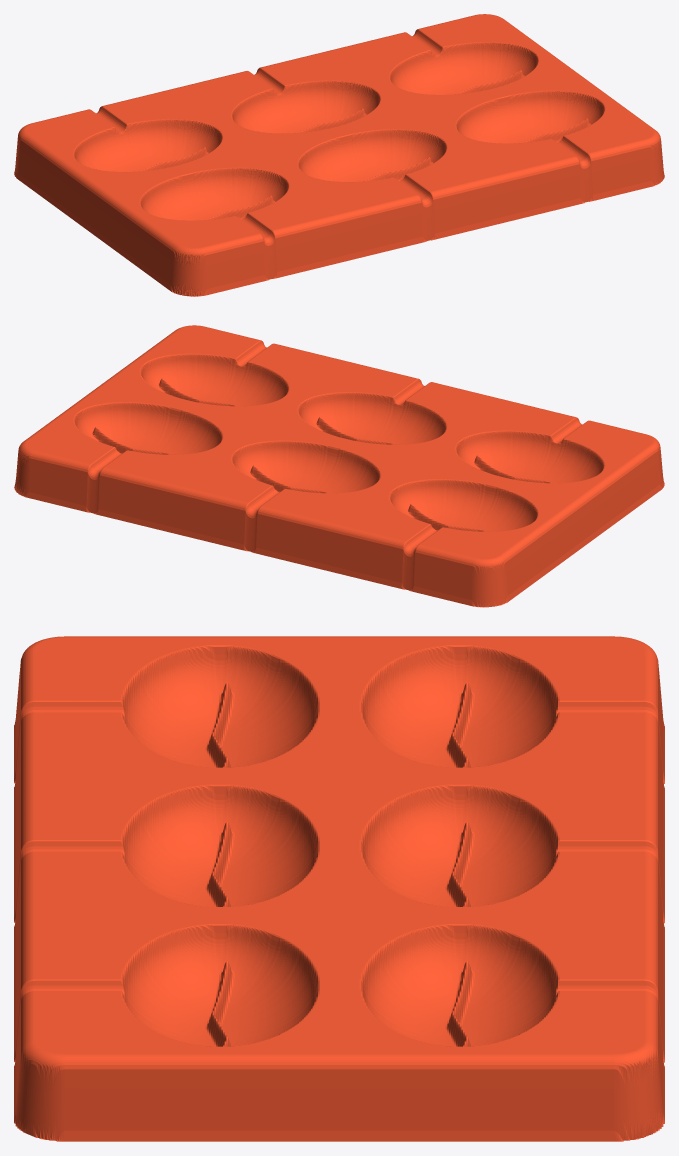
Rendered from mold.glb.
The picture shows the model from 3 angles, top to bottom: view 1: azimuth 30°, elevation 25°; view 2: azimuth 150°, elevation 25°; view 3: azimuth 270°, elevation 25°; orthographic projection. The views are drawn at different scales.
Visible parts, largest first — view 1: geometry_0; view 2: geometry_0; view 3: geometry_0.
Boxes of the visible parts, x1,y1,x2,y2 form: geometry_0: [14, 14, 664, 296]; geometry_0: [14, 325, 664, 607]; geometry_0: [14, 636, 664, 1141].
Bounding box in the file's own units: 0.1824 × 0.0155 × 0.1158.
